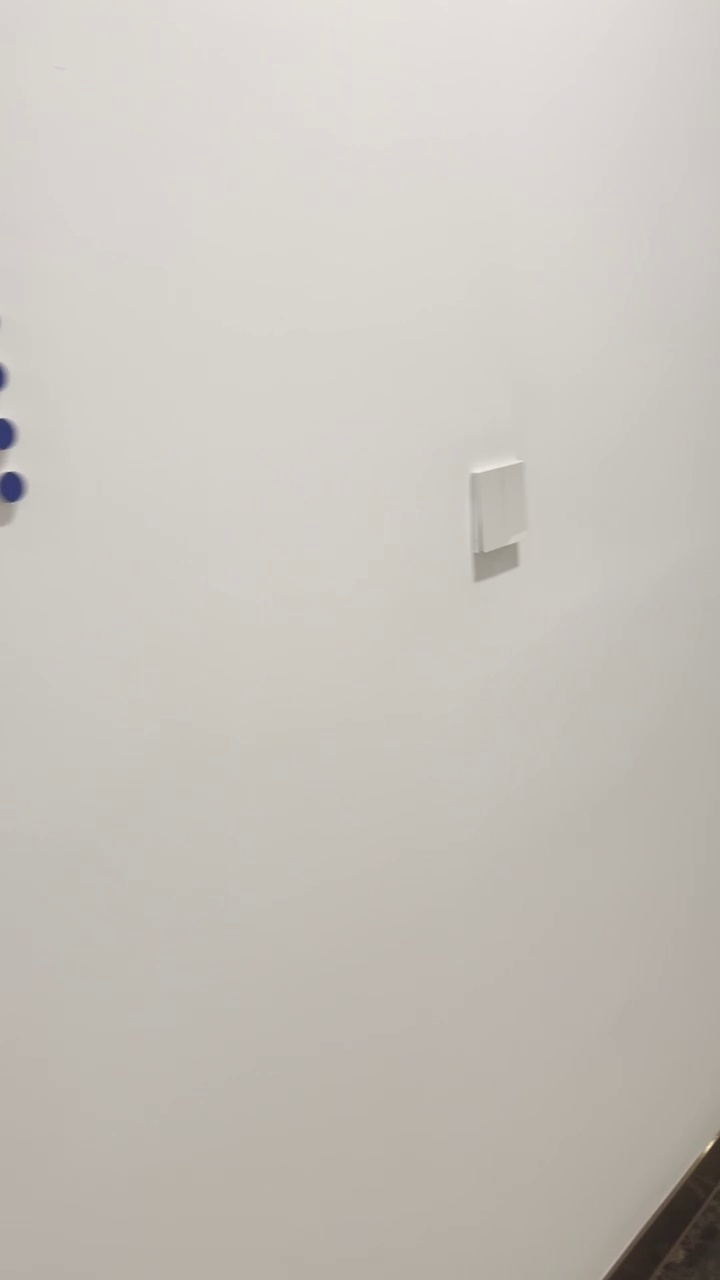button: (467, 456, 535, 556)
